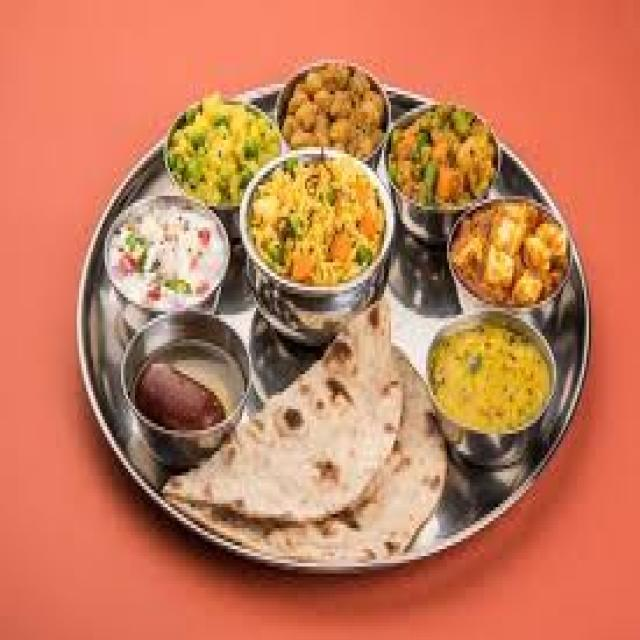curd: (96, 191, 230, 312)
dal: (428, 309, 566, 456)
raita: (102, 196, 232, 317)
rice: (243, 143, 385, 311)
roti: (237, 304, 448, 561)
sweet: (98, 197, 232, 313), (126, 334, 244, 444)
veg-fry: (376, 86, 574, 329), (162, 79, 274, 208)
